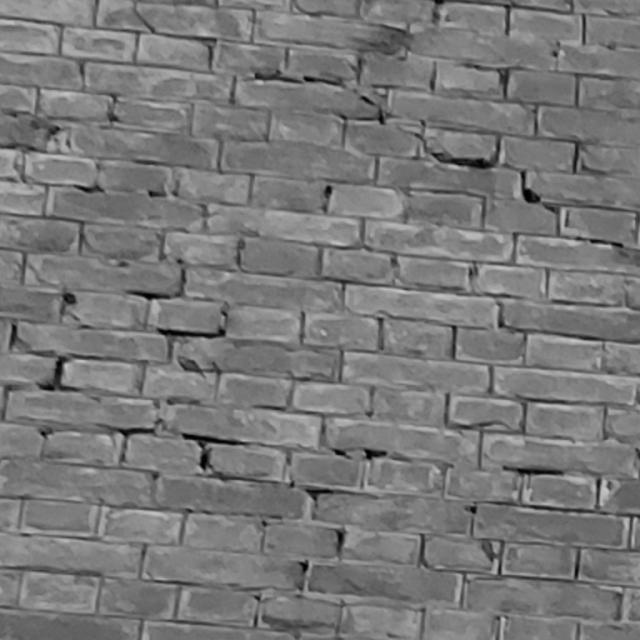crack: (132, 1, 624, 246)
